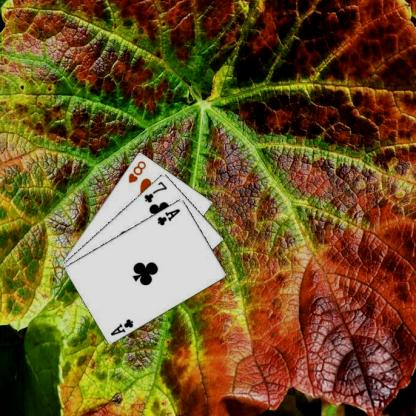7C: (141, 178, 168, 204)
8H: (126, 158, 148, 184)
AC: (108, 316, 135, 337), (155, 206, 181, 227)
